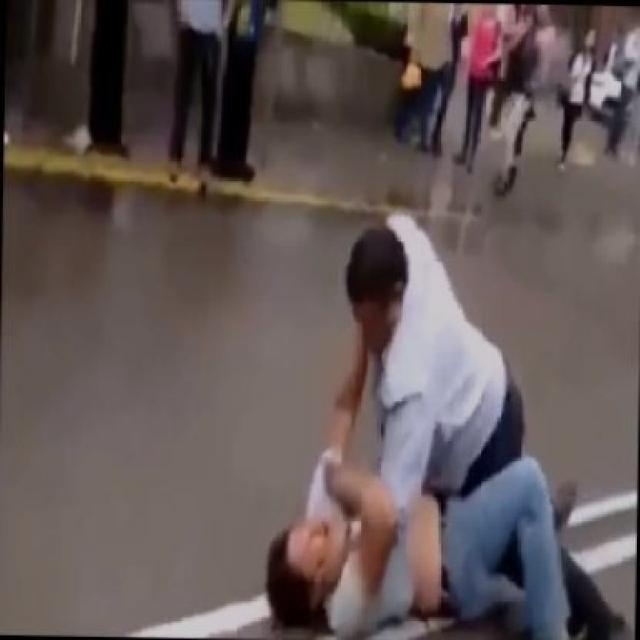fight: (232, 176, 638, 638)
non-fight: (144, 0, 244, 186), (443, 2, 522, 180)
